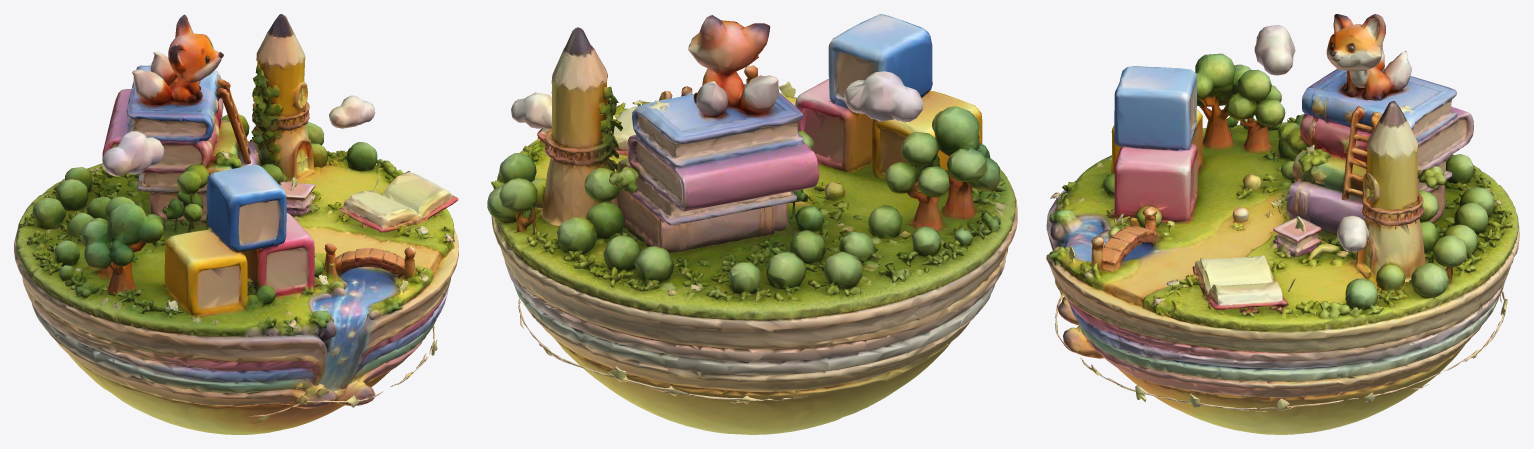
Rendered from star_word.glb.
3 renders of one model, left to right at view 1: azimuth 30°, elevation 25°; view 2: azimuth 150°, elevation 25°; view 3: azimuth 270°, elevation 25°, orthographic. The views are drawn at different scales.
Bounding box in the file's own units: 1 × 0.9176 × 0.9911.
Materials: 1 (1 with a texture image).
